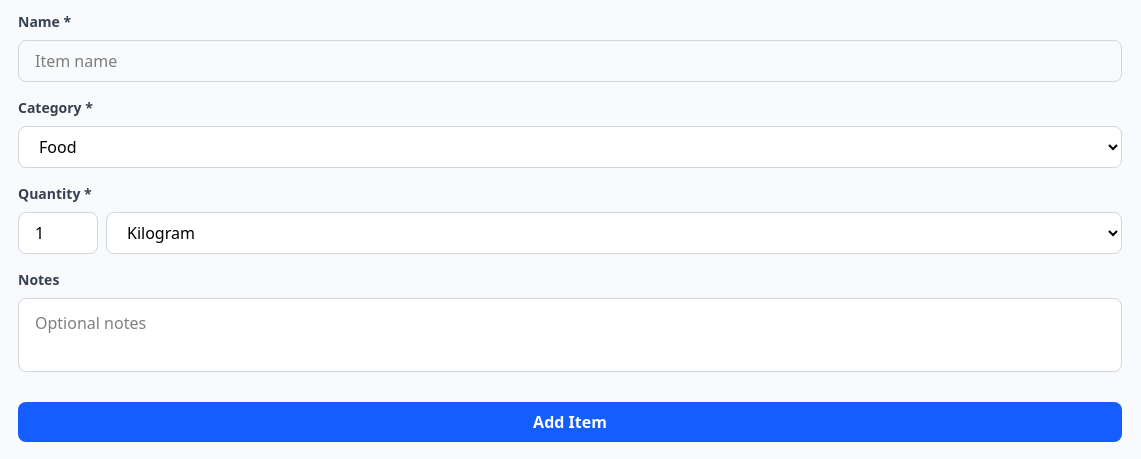
it: ItemForm › Autocomplete item selection › auto-fills category and unit when selecting a known common item
The width and height of the screenshot is (1141, 459).
Type "Tent" into the dropdown with placeholder "Item name" at (570, 61), box [18,40,1122,82]
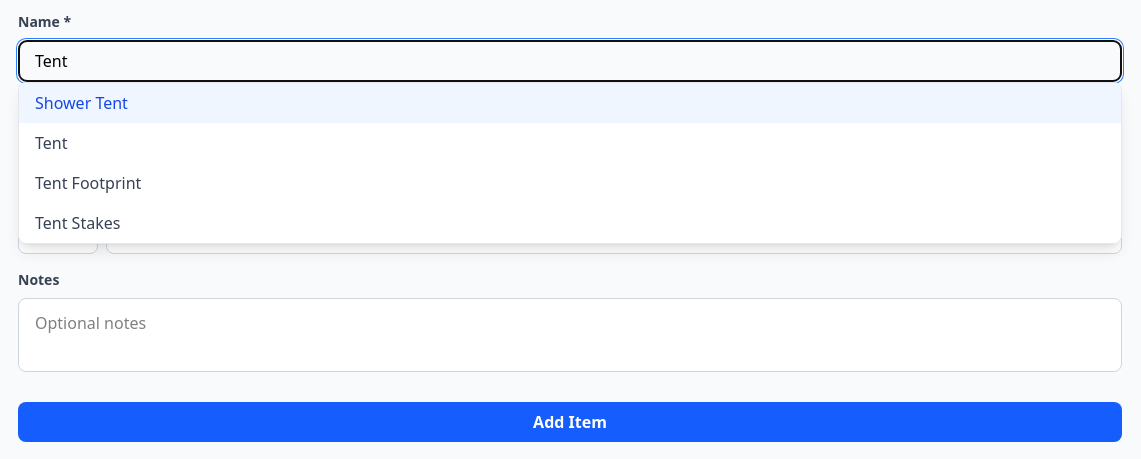
Click the option "Tent" at (51, 143), box [35,132,68,154]
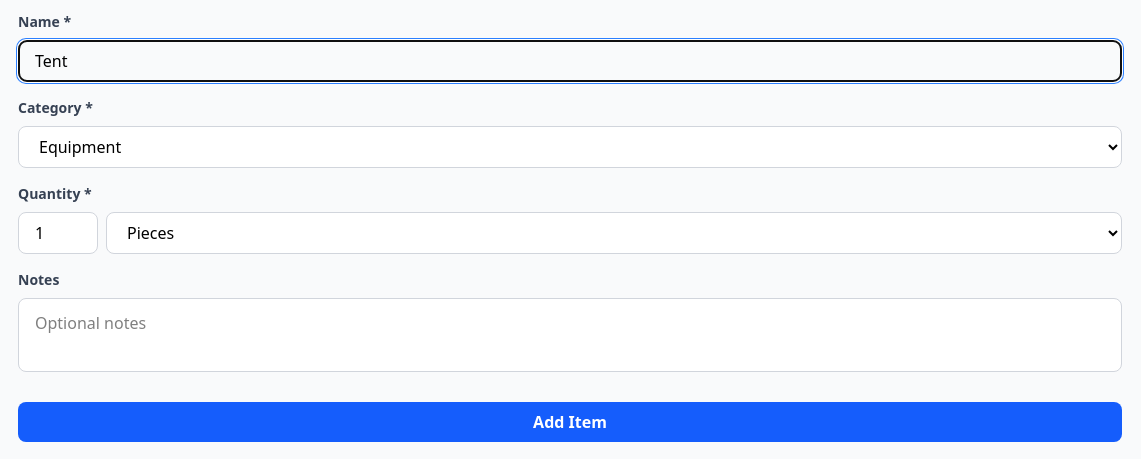
Expected: the dropdown below "Category *" shows "Equipment", [18,126,1122,168]
Expected: the dropdown named "unit" below "Quantity *" shows "Pieces", [106,212,1122,254]
